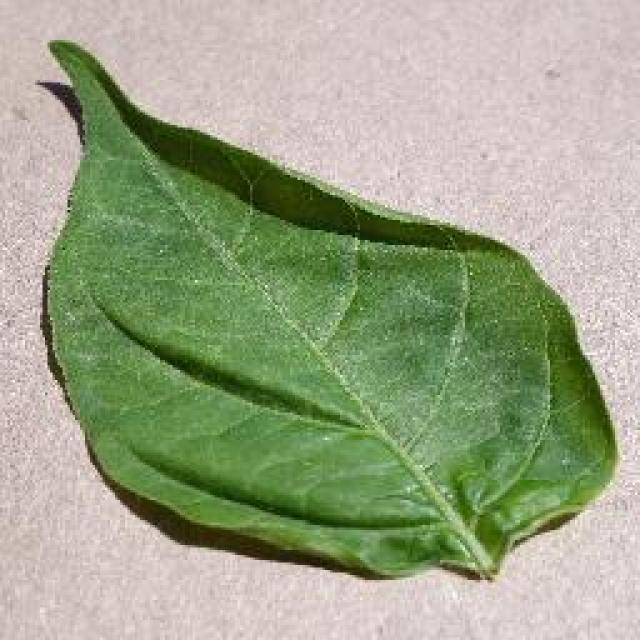Leaf: (65, 97, 571, 546)
